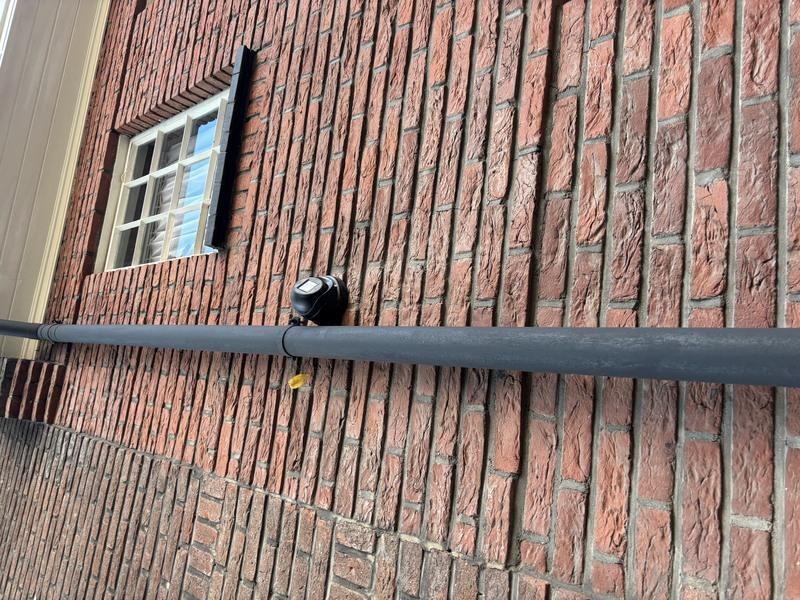turret: (273, 284, 335, 349)
